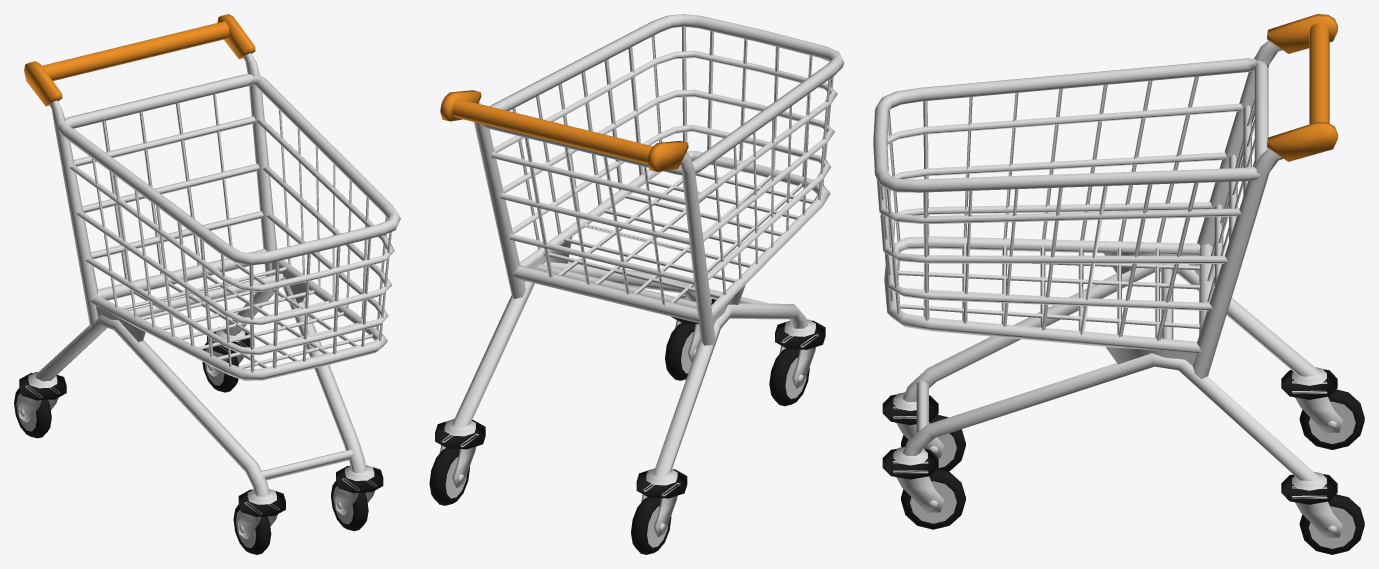
The model's file is cart.gltf.
The picture shows the model from 3 angles, left to right: view 1: azimuth 30°, elevation 25°; view 2: azimuth 150°, elevation 25°; view 3: azimuth 270°, elevation 25°; orthographic projection. The views are drawn at different scales.
Visible parts, largest first — view 1: BezierCurve001_2, BezierCurve001_1, BezierCurve001; view 2: BezierCurve001_2, BezierCurve001, BezierCurve001_1; view 3: BezierCurve001_2, BezierCurve001, BezierCurve001_1.
Part boxes in pixels (box(x1,y1,x2,y2)): BezierCurve001_2: box(16, 53, 400, 547); BezierCurve001_1: box(24, 14, 255, 106); BezierCurve001: box(14, 327, 383, 554); BezierCurve001_2: box(440, 14, 844, 547); BezierCurve001: box(429, 297, 825, 554); BezierCurve001_1: box(440, 90, 688, 171); BezierCurve001_2: box(873, 40, 1355, 548); BezierCurve001: box(882, 369, 1364, 554); BezierCurve001_1: box(1267, 14, 1337, 161).
Bounding box in the file's own units: 0.0863 × 0.1351 × 0.1396.
